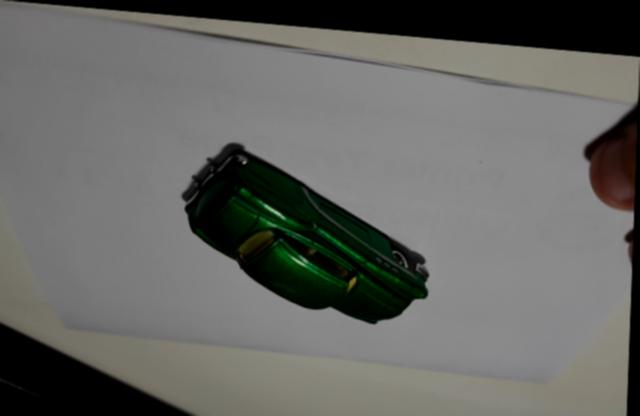06_MASERATI: (182, 136, 432, 316)
